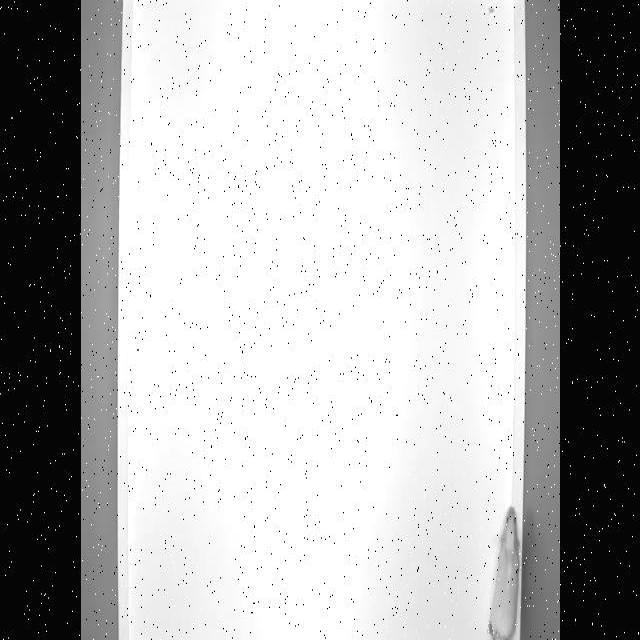rat: (486, 506, 526, 640)
